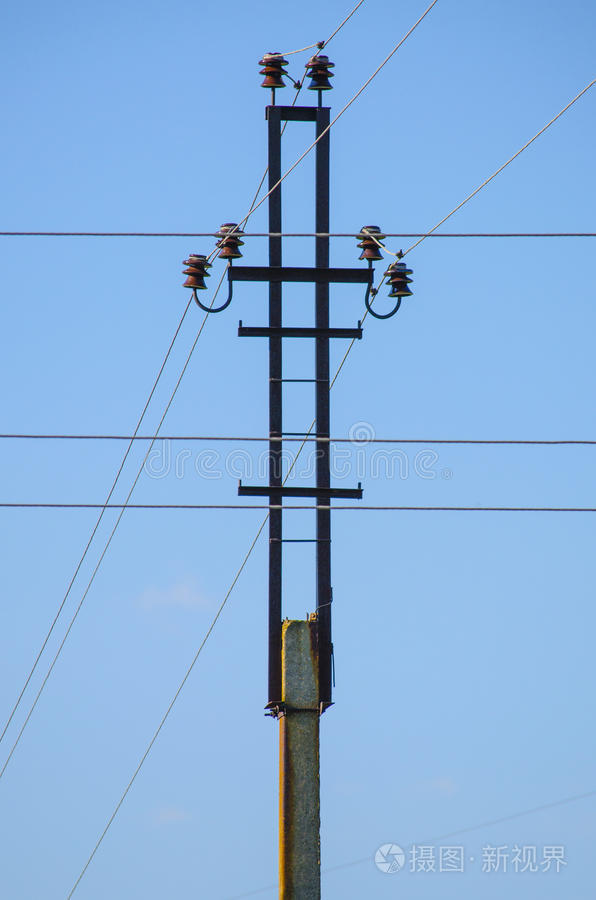insulator: (303, 57, 338, 93), (255, 54, 288, 90), (355, 227, 386, 265), (178, 256, 209, 291), (216, 225, 247, 259), (387, 266, 415, 302)
